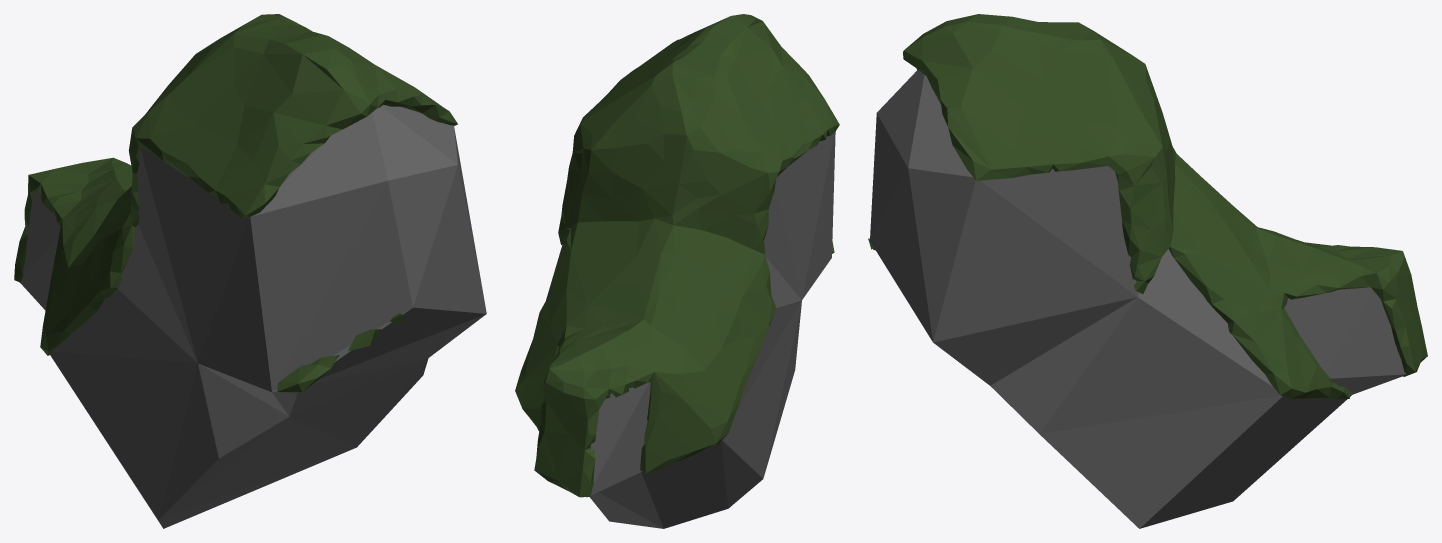
File: stone.fbx
The picture shows the model from 3 angles, left to right: view 1: azimuth 30°, elevation 25°; view 2: azimuth 150°, elevation 25°; view 3: azimuth 270°, elevation 25°; orthographic projection. The views are drawn at different scales.
Parts seen in each view (by area): view 1: Stone.005; view 2: Stone.005; view 3: Stone.005.
Part boxes in pixels (bbox=[...]): Stone.005: bbox=[14, 14, 486, 528]; Stone.005: bbox=[515, 14, 839, 528]; Stone.005: bbox=[868, 14, 1427, 528].
Size of the model in its own units: 110 by 205 by 212.
